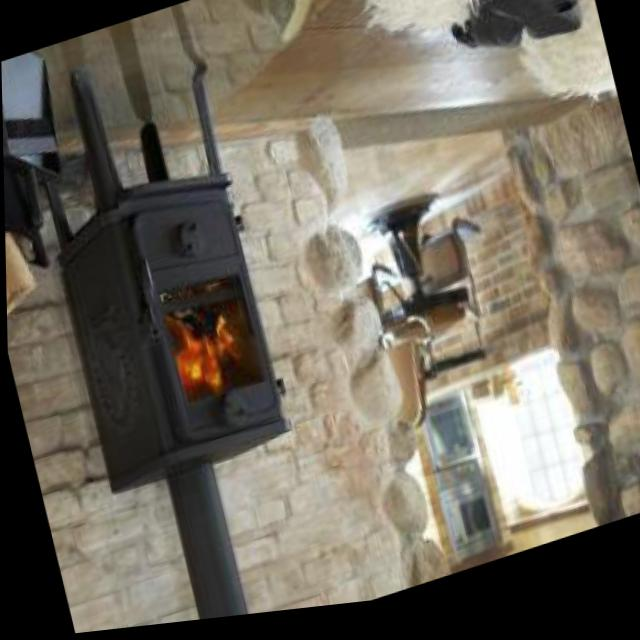Fire: (171, 299, 245, 405)
